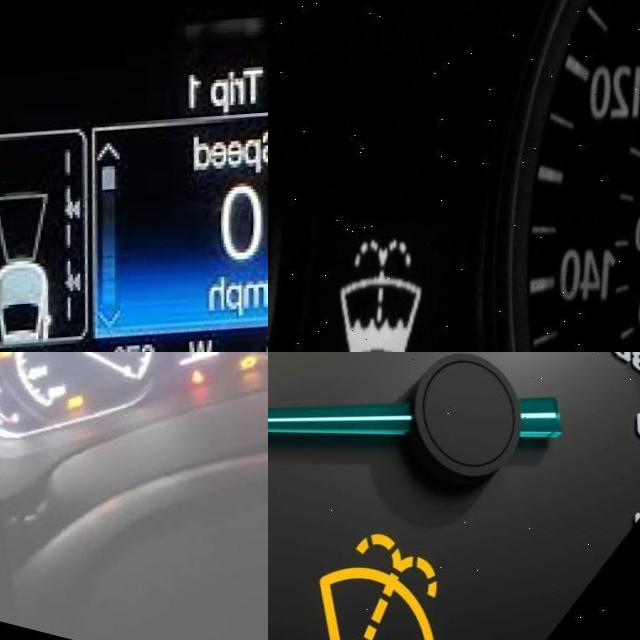Washer Fluid: (319, 533, 448, 640), (339, 236, 430, 352)
